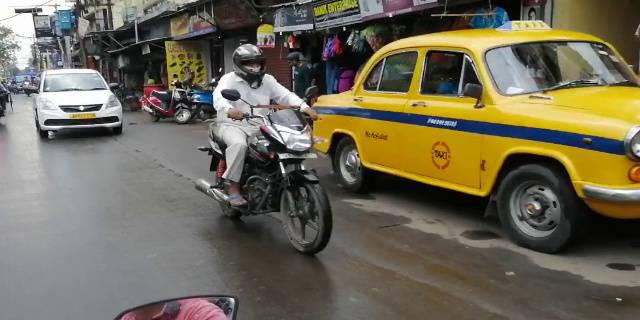Car: (305, 29, 636, 226), (38, 66, 122, 135)
Motorbike: (195, 44, 339, 255)
